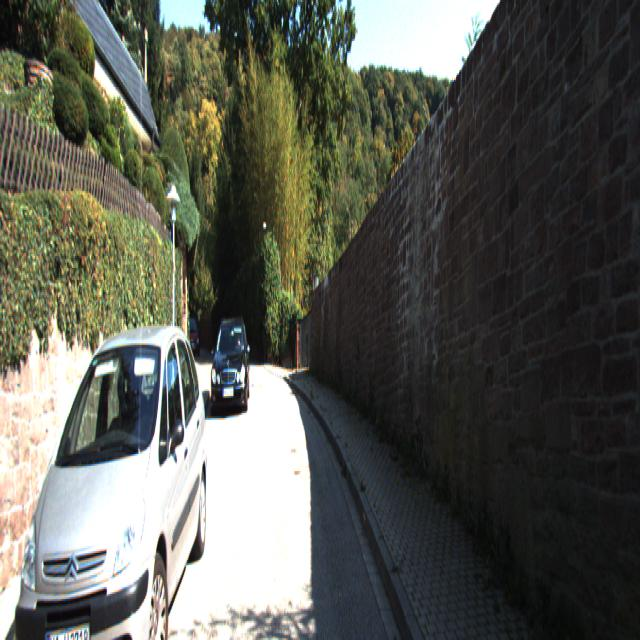Car: (6, 296, 209, 638), (211, 313, 250, 416), (184, 317, 201, 359)
